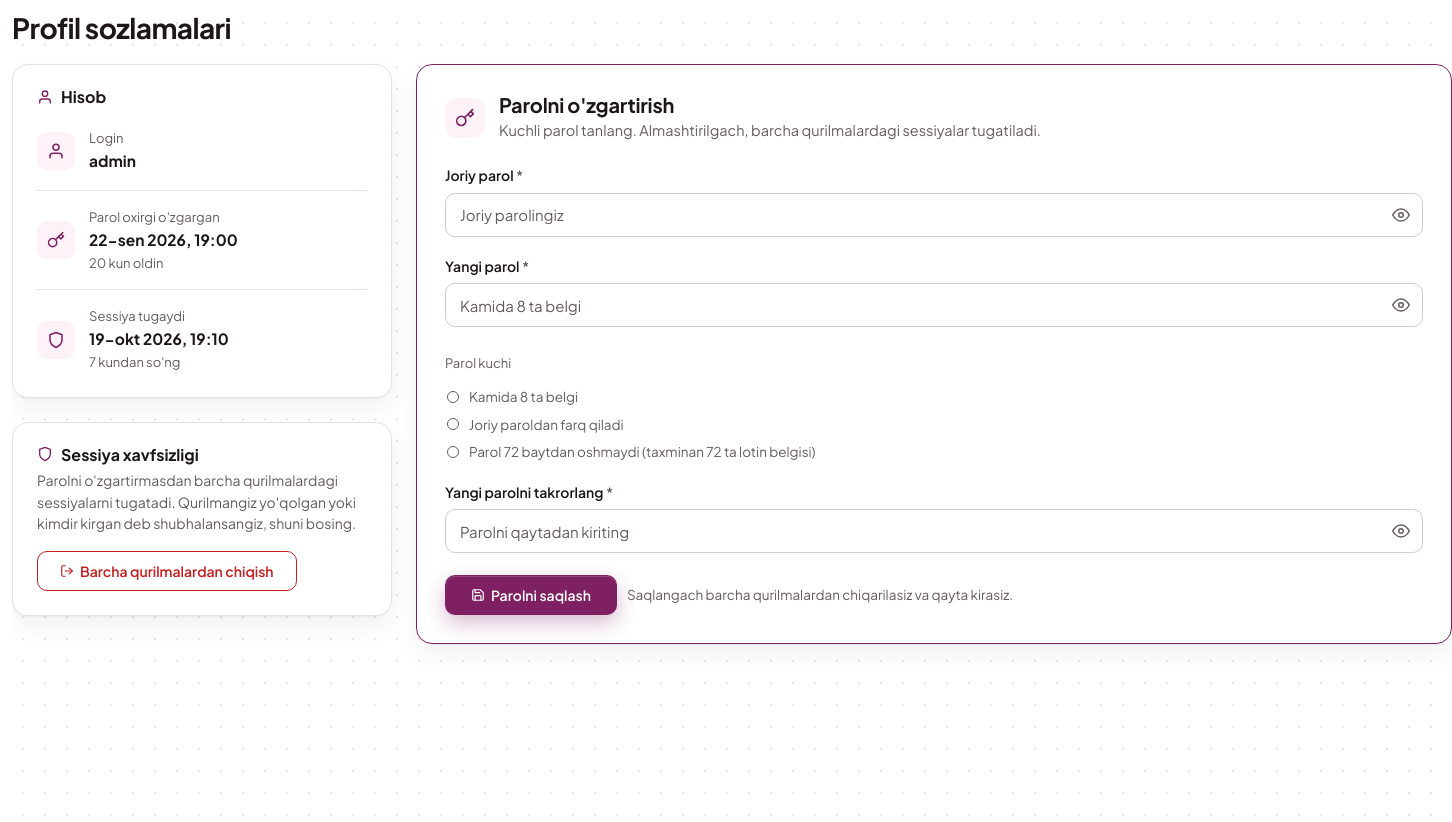
Scenario: ProfileAdmin: validatsiya (alert emas — maydon ostida) › parollar mos kelmasa — takrorlash maydoni ostida xabar, so'rov yuborilmaydi
The image size is (1452, 822).
In the password field labelled "Joriy parol *": (934, 215) left=445, top=193, right=1423, bottom=237, type "eski"
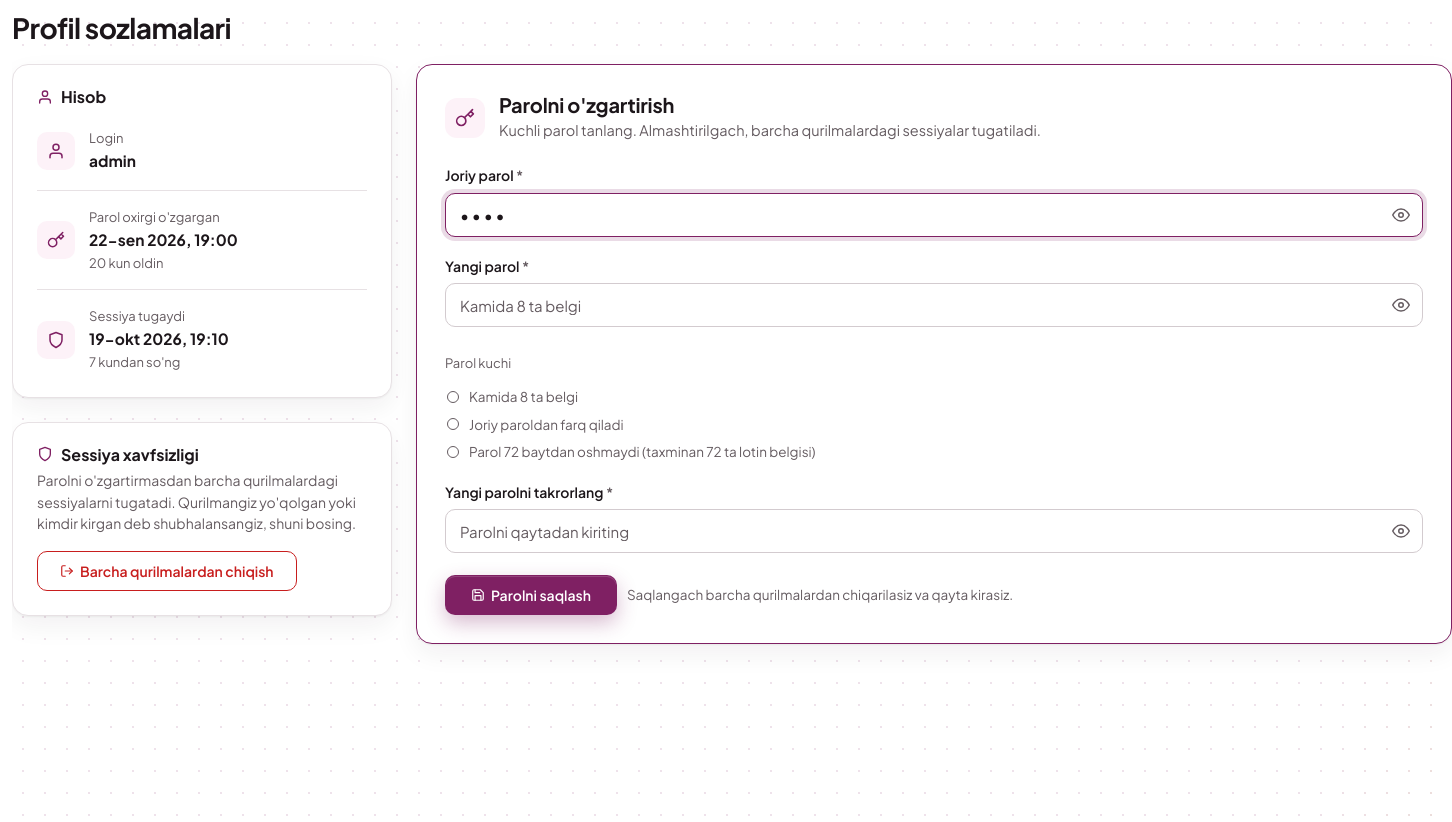
In the password field labelled "Yangi parol *": (934, 305) left=445, top=283, right=1423, bottom=327, type "yangi-parol-1"
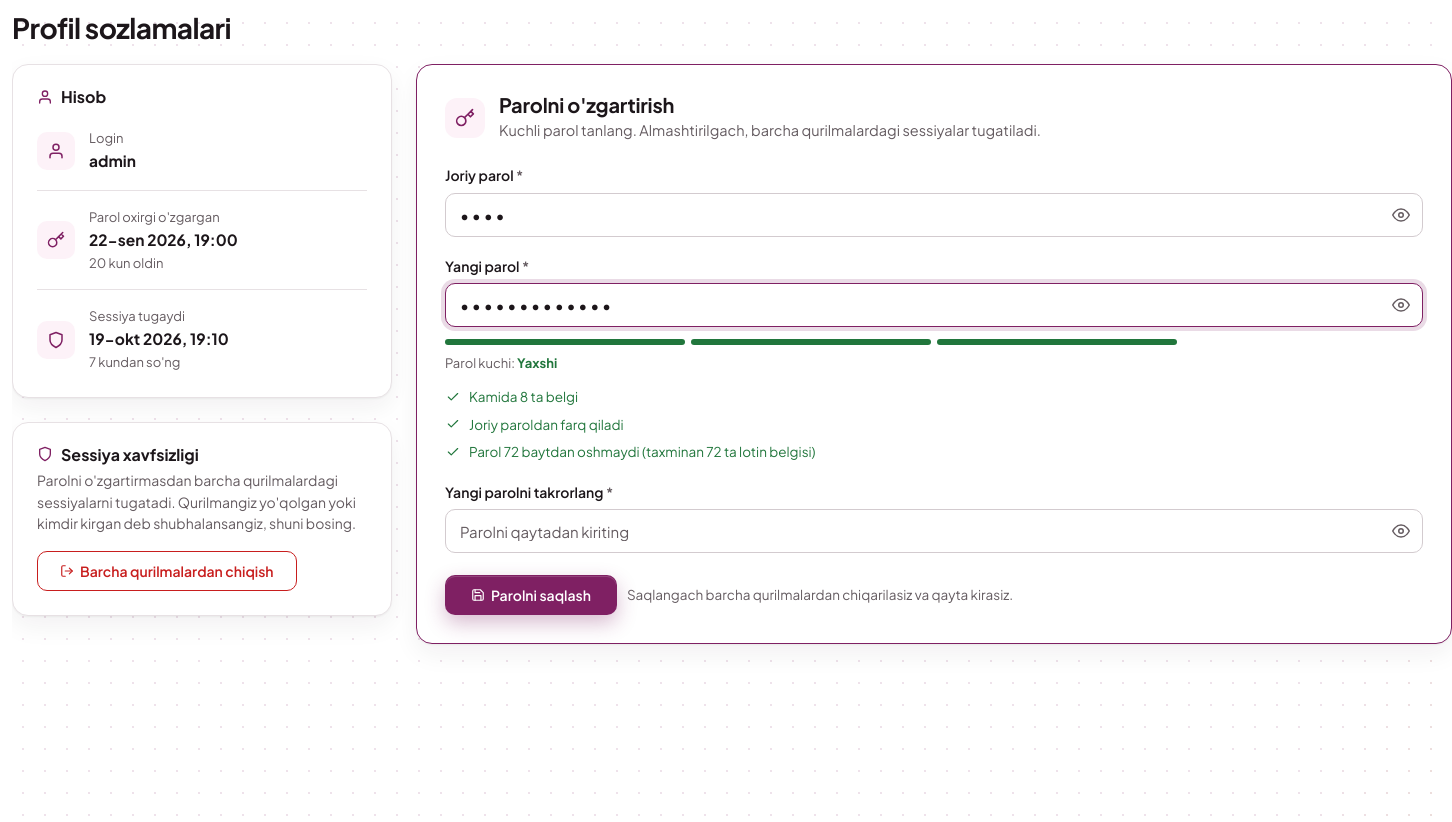
In the password field labelled "Yangi parolni takrorlang *": (934, 531) left=445, top=509, right=1423, bottom=553, type "boshqa-parol-2"
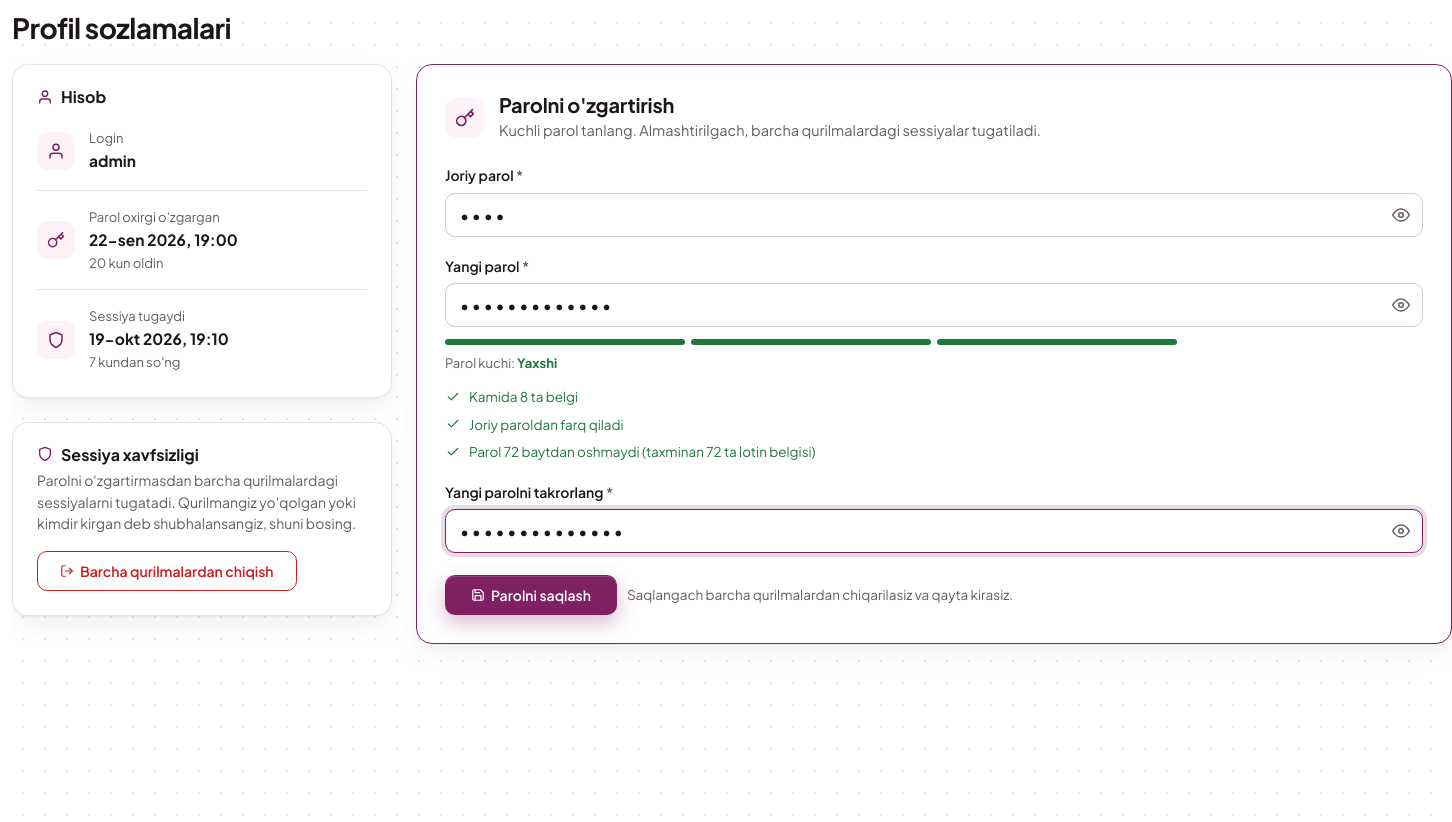
Click the button "Parolni saqlash": (531, 595) left=445, top=575, right=617, bottom=615
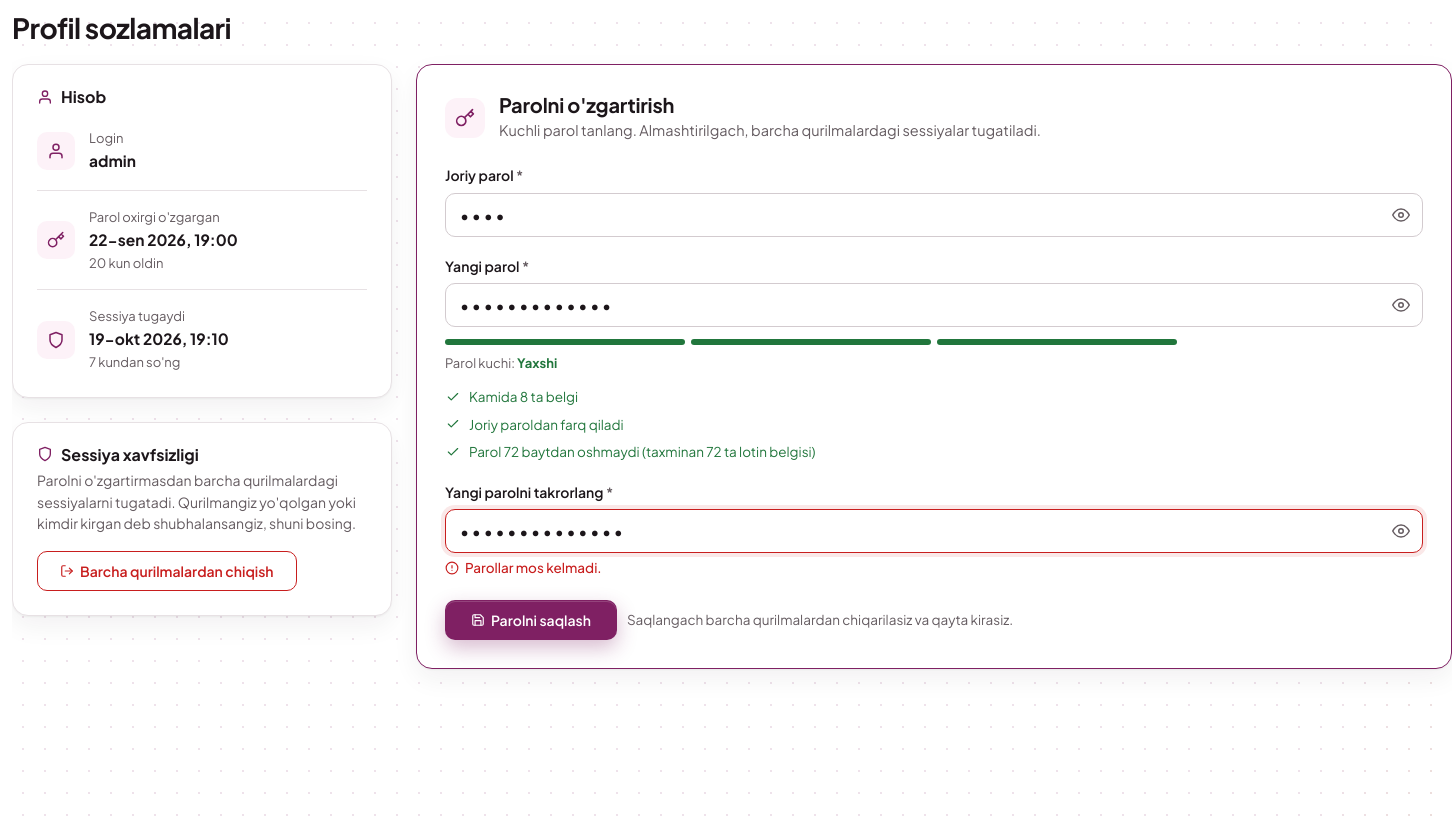
Now the text "Parollar mos kelmadi." is shown, box left=465, top=559, right=602, bottom=578
